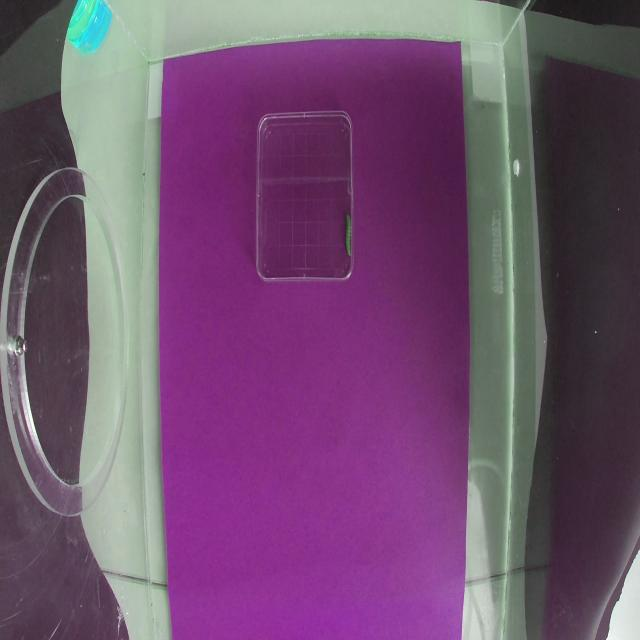larva: (342, 209, 354, 258)
